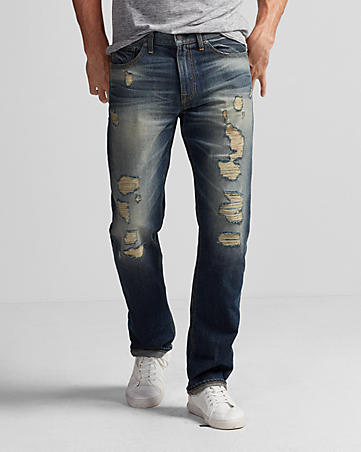Jeans: (98, 33, 257, 390)
